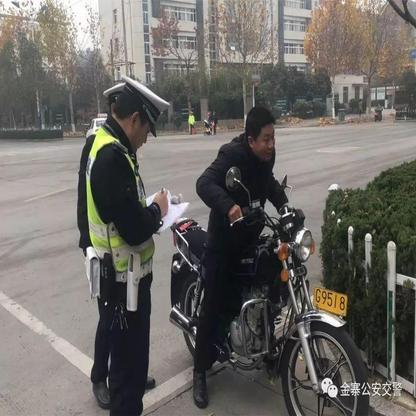target: (169, 106, 371, 413)
